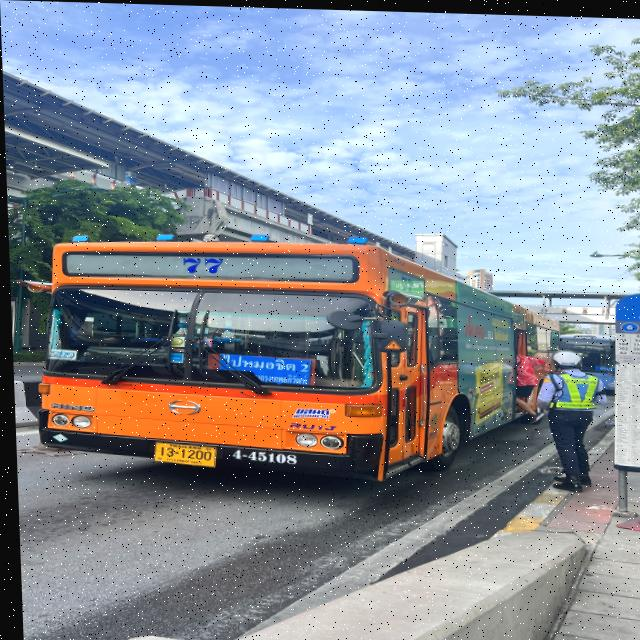BMTA-bus: (30, 223, 520, 483)
Bus-Line-Number: (170, 250, 227, 278)
Destination-Sign-Normal: (219, 354, 309, 385)
